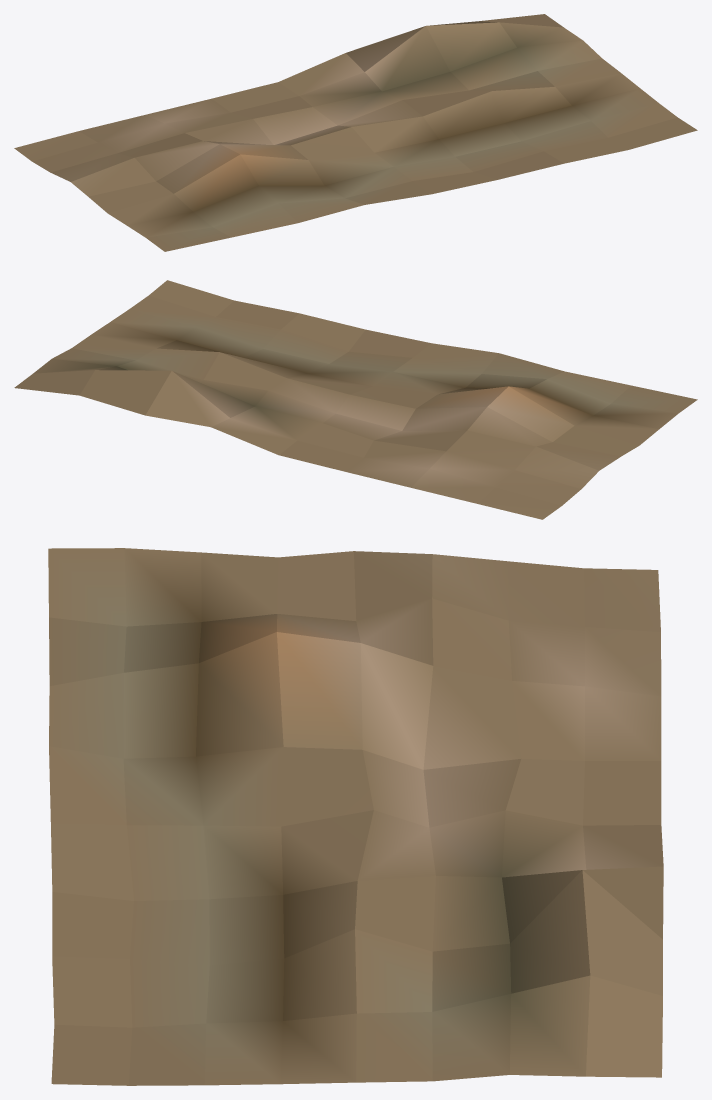
Rendered from wall1.dae.
The picture shows the model from 3 angles, top to bottom: view 1: azimuth 30°, elevation 25°; view 2: azimuth 150°, elevation 25°; view 3: azimuth 270°, elevation 25°; orthographic projection. The views are drawn at different scales.
Visible parts, largest first — view 1: Plane; view 2: Plane; view 3: Plane.
Boxes of the visible parts, x1,y1,x2,y2 form: Plane: (14, 14, 697, 251); Plane: (14, 280, 697, 519); Plane: (48, 548, 663, 1085).
Bounding box in the file's own units: 201 × 101 × 17.07.
